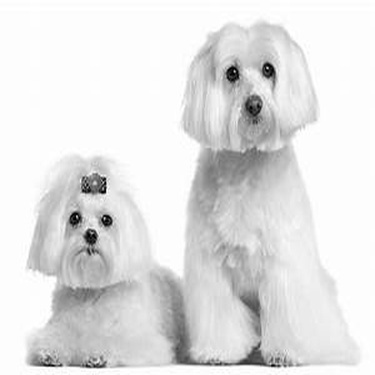dog: (162, 10, 368, 371), (16, 144, 195, 365)
